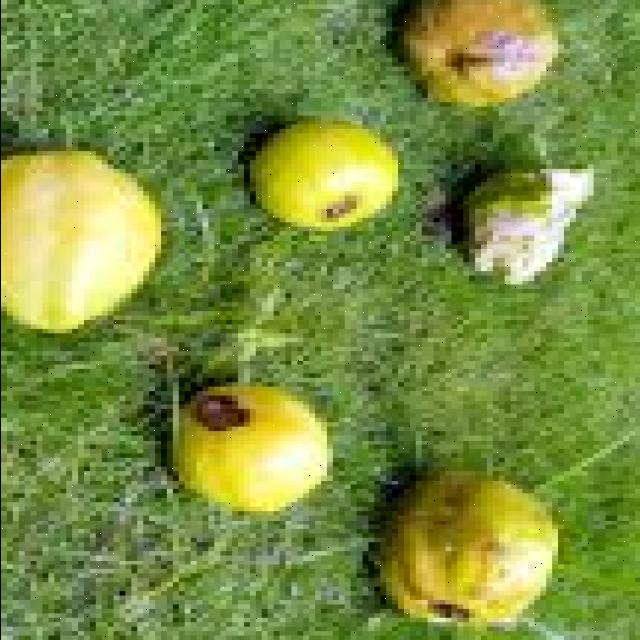Bad_Guava 0 day: (367, 476, 557, 627), (172, 382, 326, 516), (385, 0, 557, 111), (237, 116, 397, 231), (444, 173, 593, 284)
Good_Guava 5-7 days: (0, 147, 160, 333)
